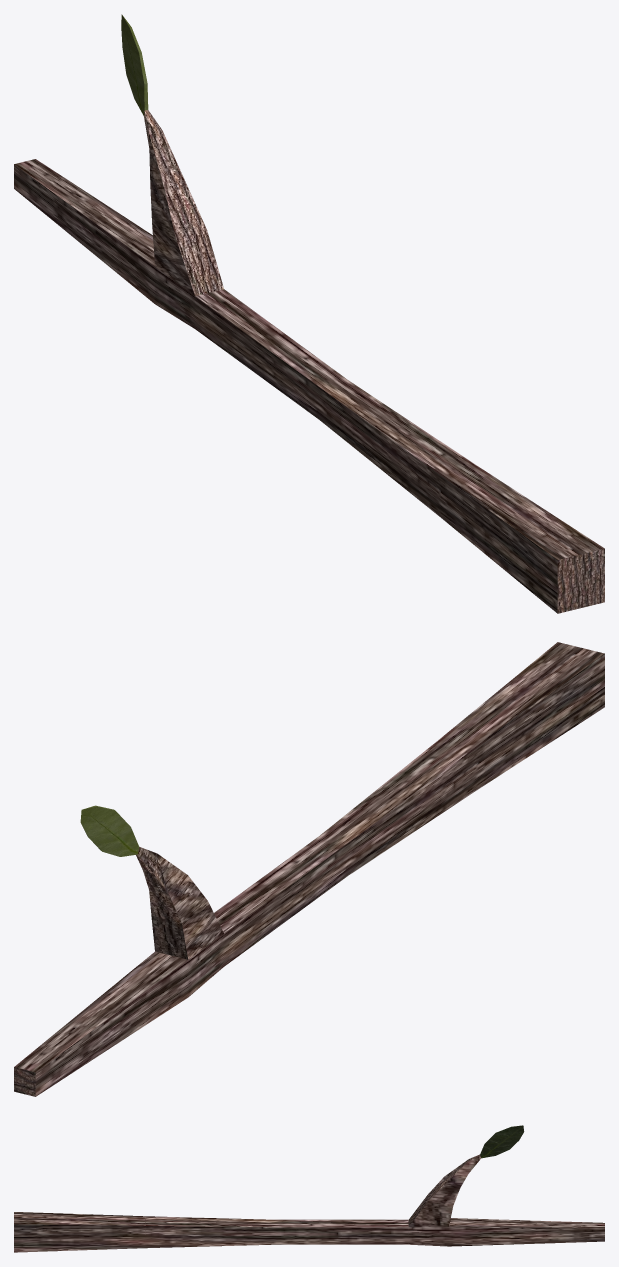
File: Branch.fbx
3 views of the same model, one above another, from view 1: azimuth 30°, elevation 25°; view 2: azimuth 150°, elevation 25°; view 3: azimuth 270°, elevation 25° (orthographic). The views are drawn at different scales.
Parts seen in each view (by area): view 1: Cube; view 2: Cube; view 3: Cube.
Part boxes in pixels (left/top/right/bottom): Cube: left=14, top=14, right=604, bottom=613; Cube: left=14, top=642, right=604, bottom=1096; Cube: left=14, top=1125, right=604, bottom=1252.
Size of the model in its own units: 16.67 by 80.15 by 340.
